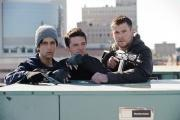gun: (102, 48, 144, 74)
